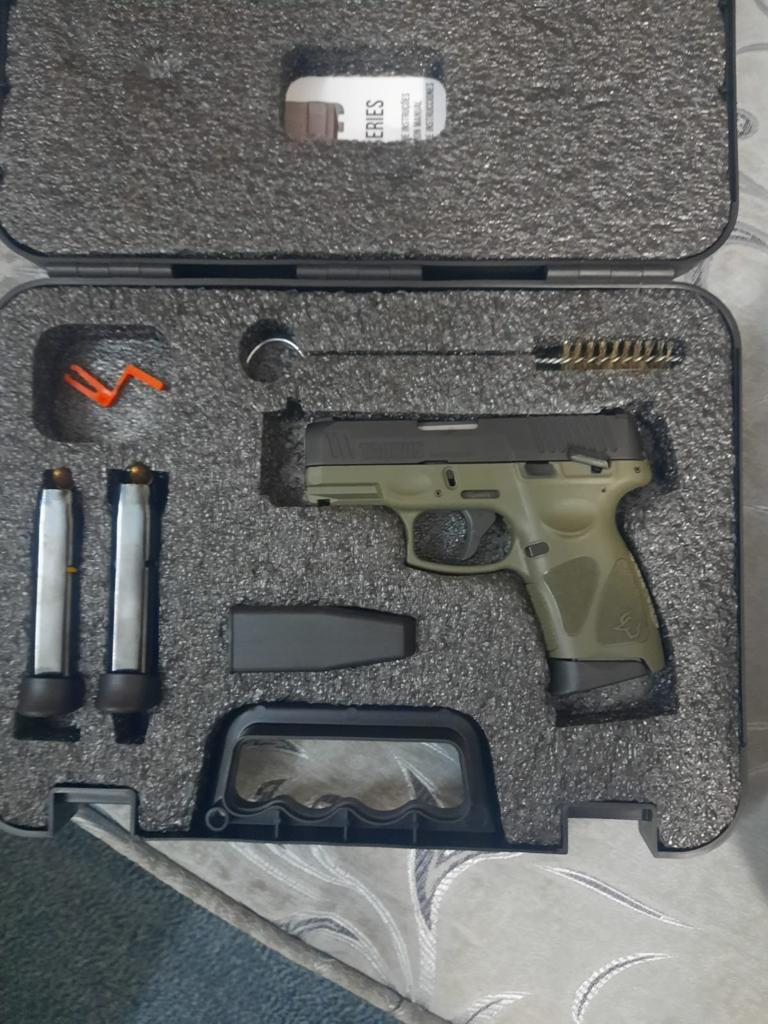weapon: (304, 409, 671, 698)
